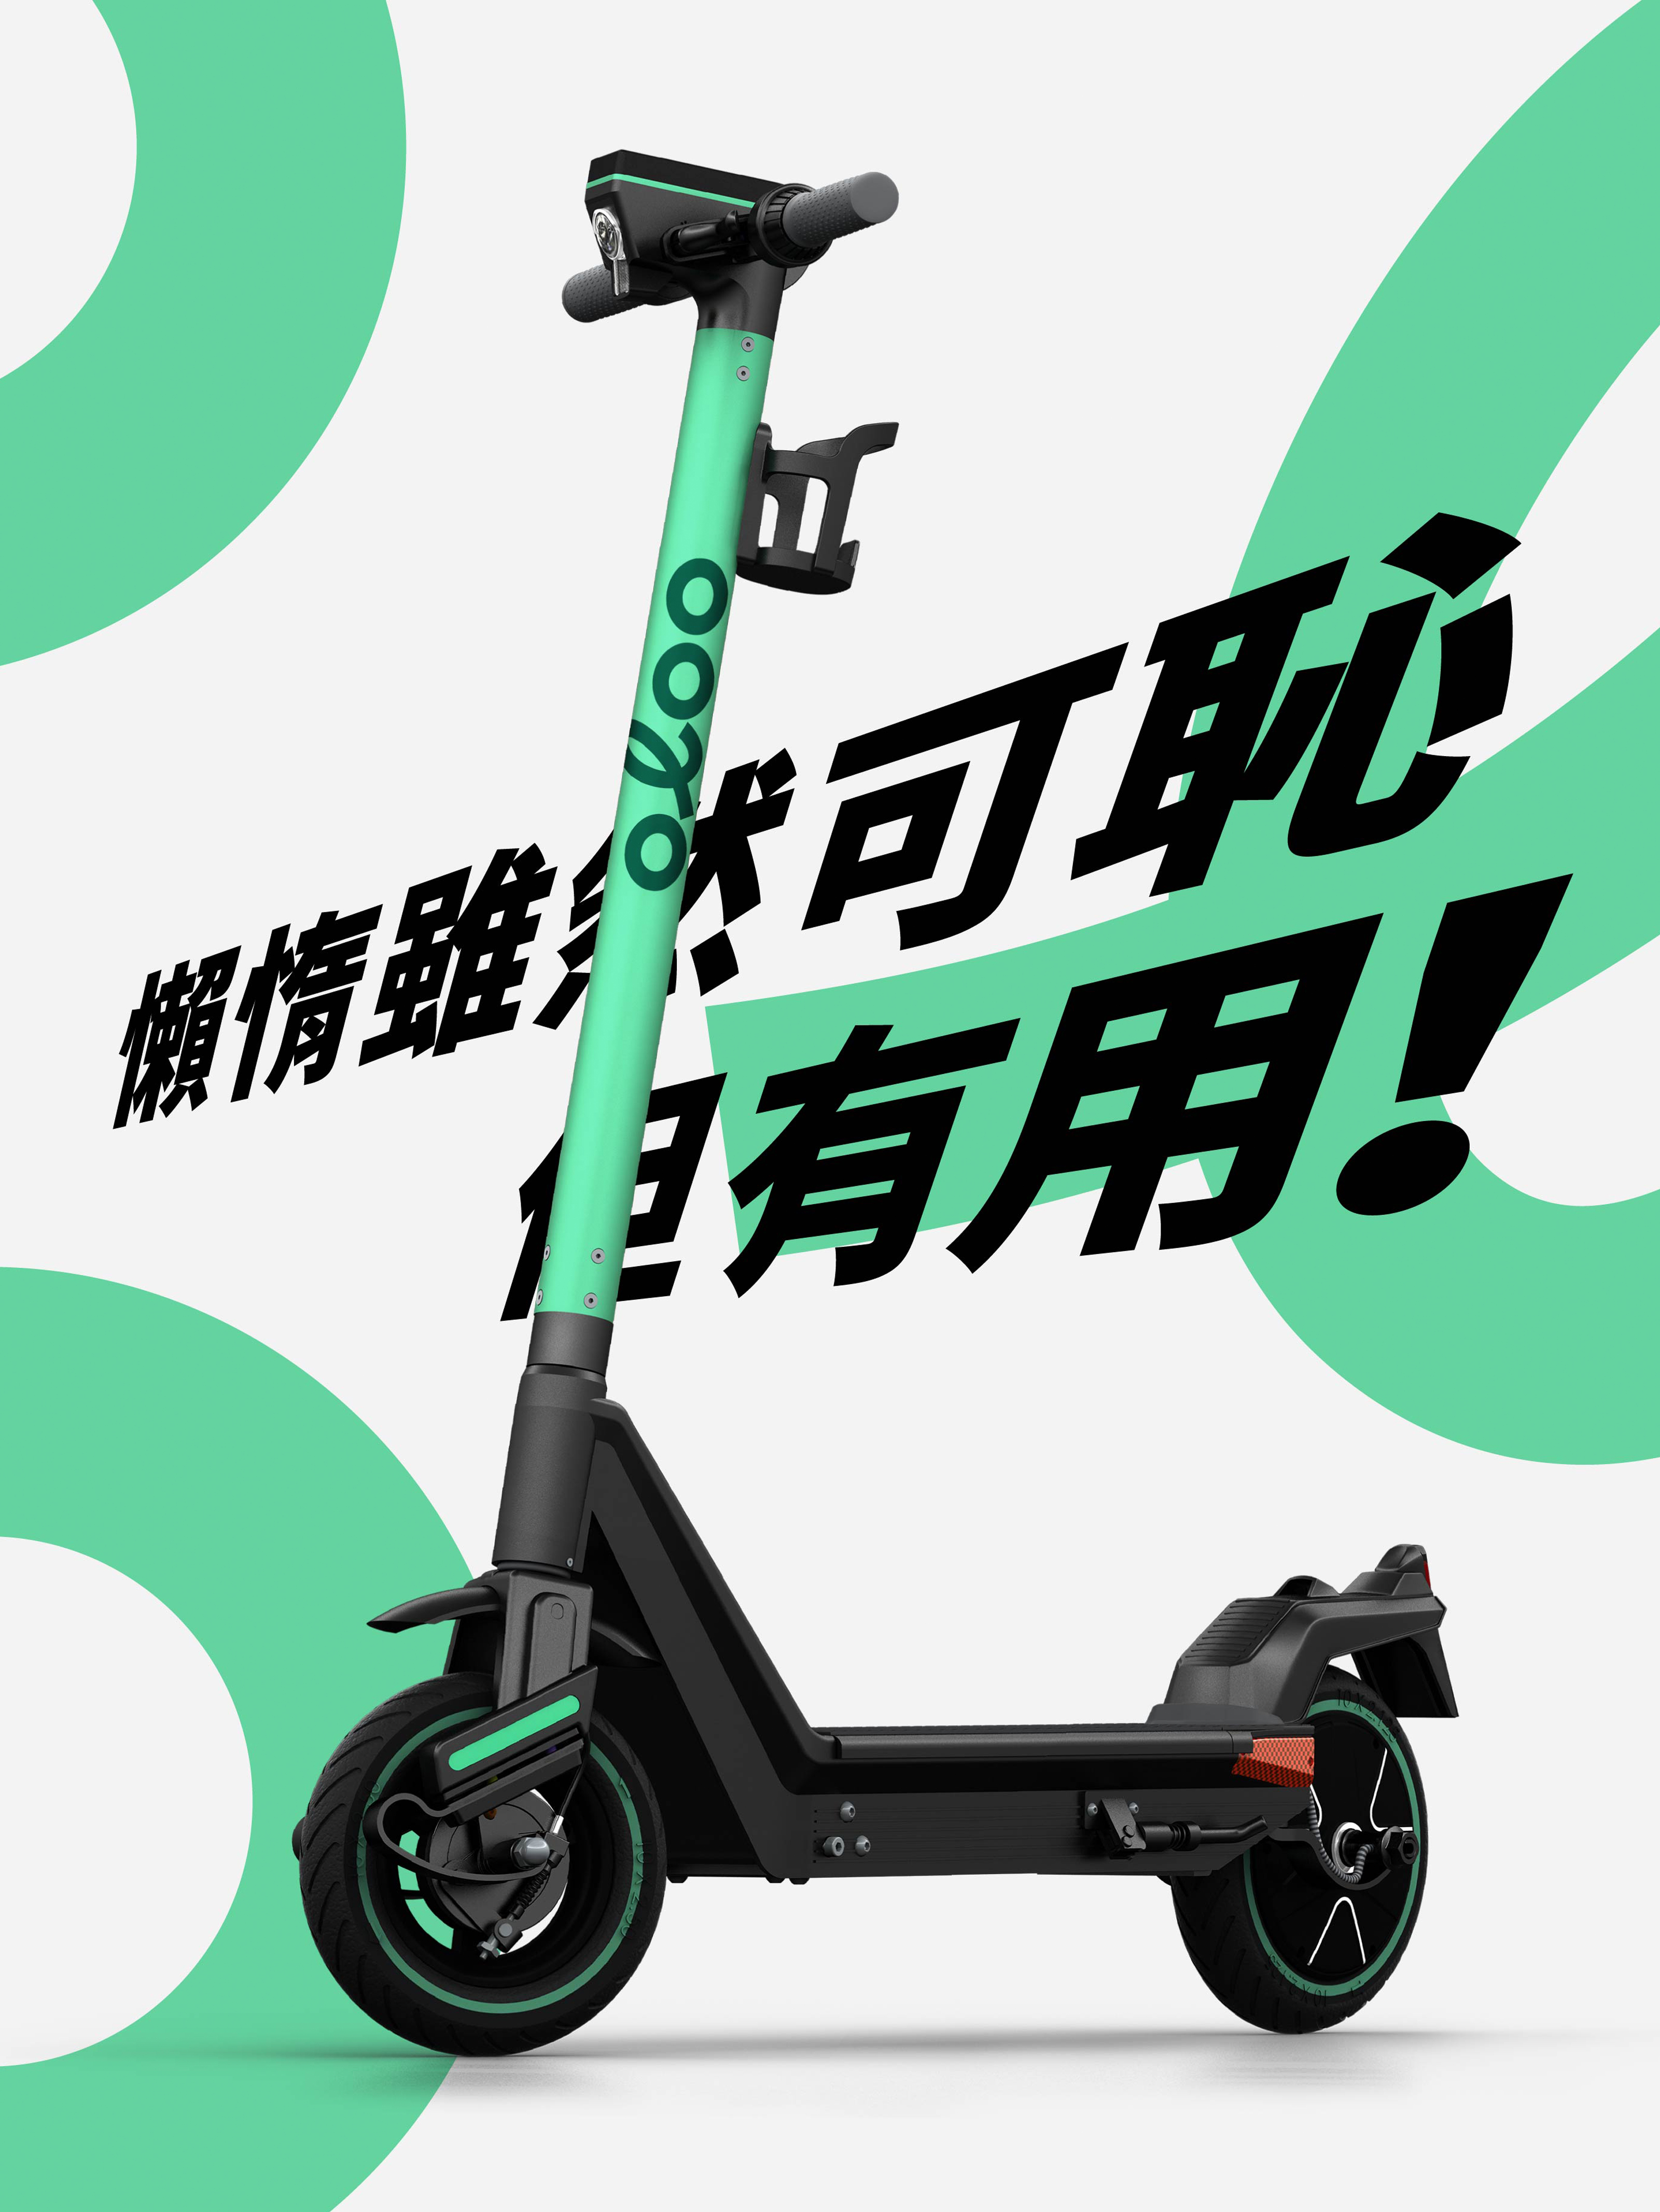scooter: (288, 145, 1468, 2064)
